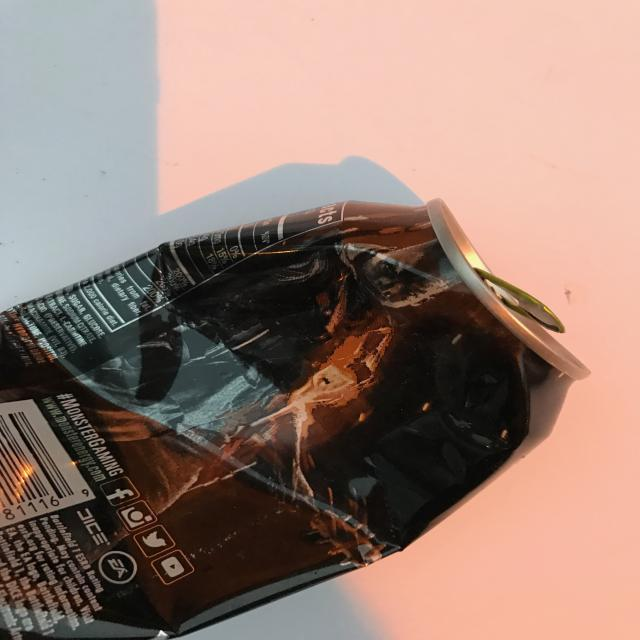metal: (5, 198, 593, 640)
